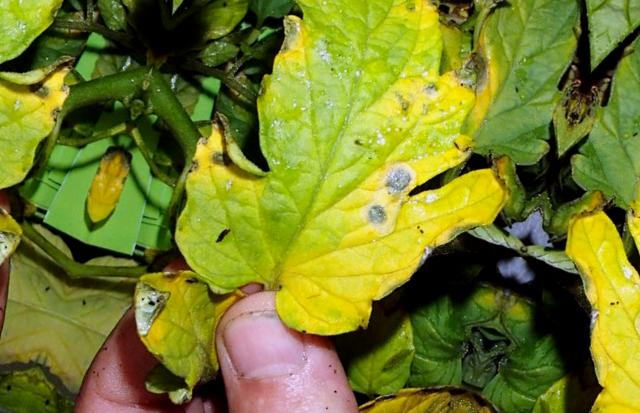Tomato Early blight leaf: (138, 0, 571, 378)
